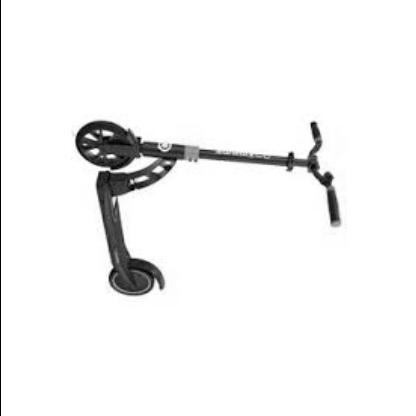bike: (76, 120, 343, 297)
